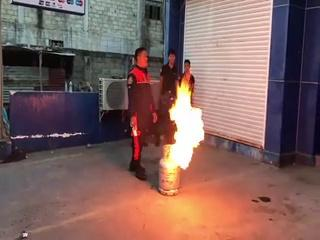Fire: (168, 78, 209, 173)
